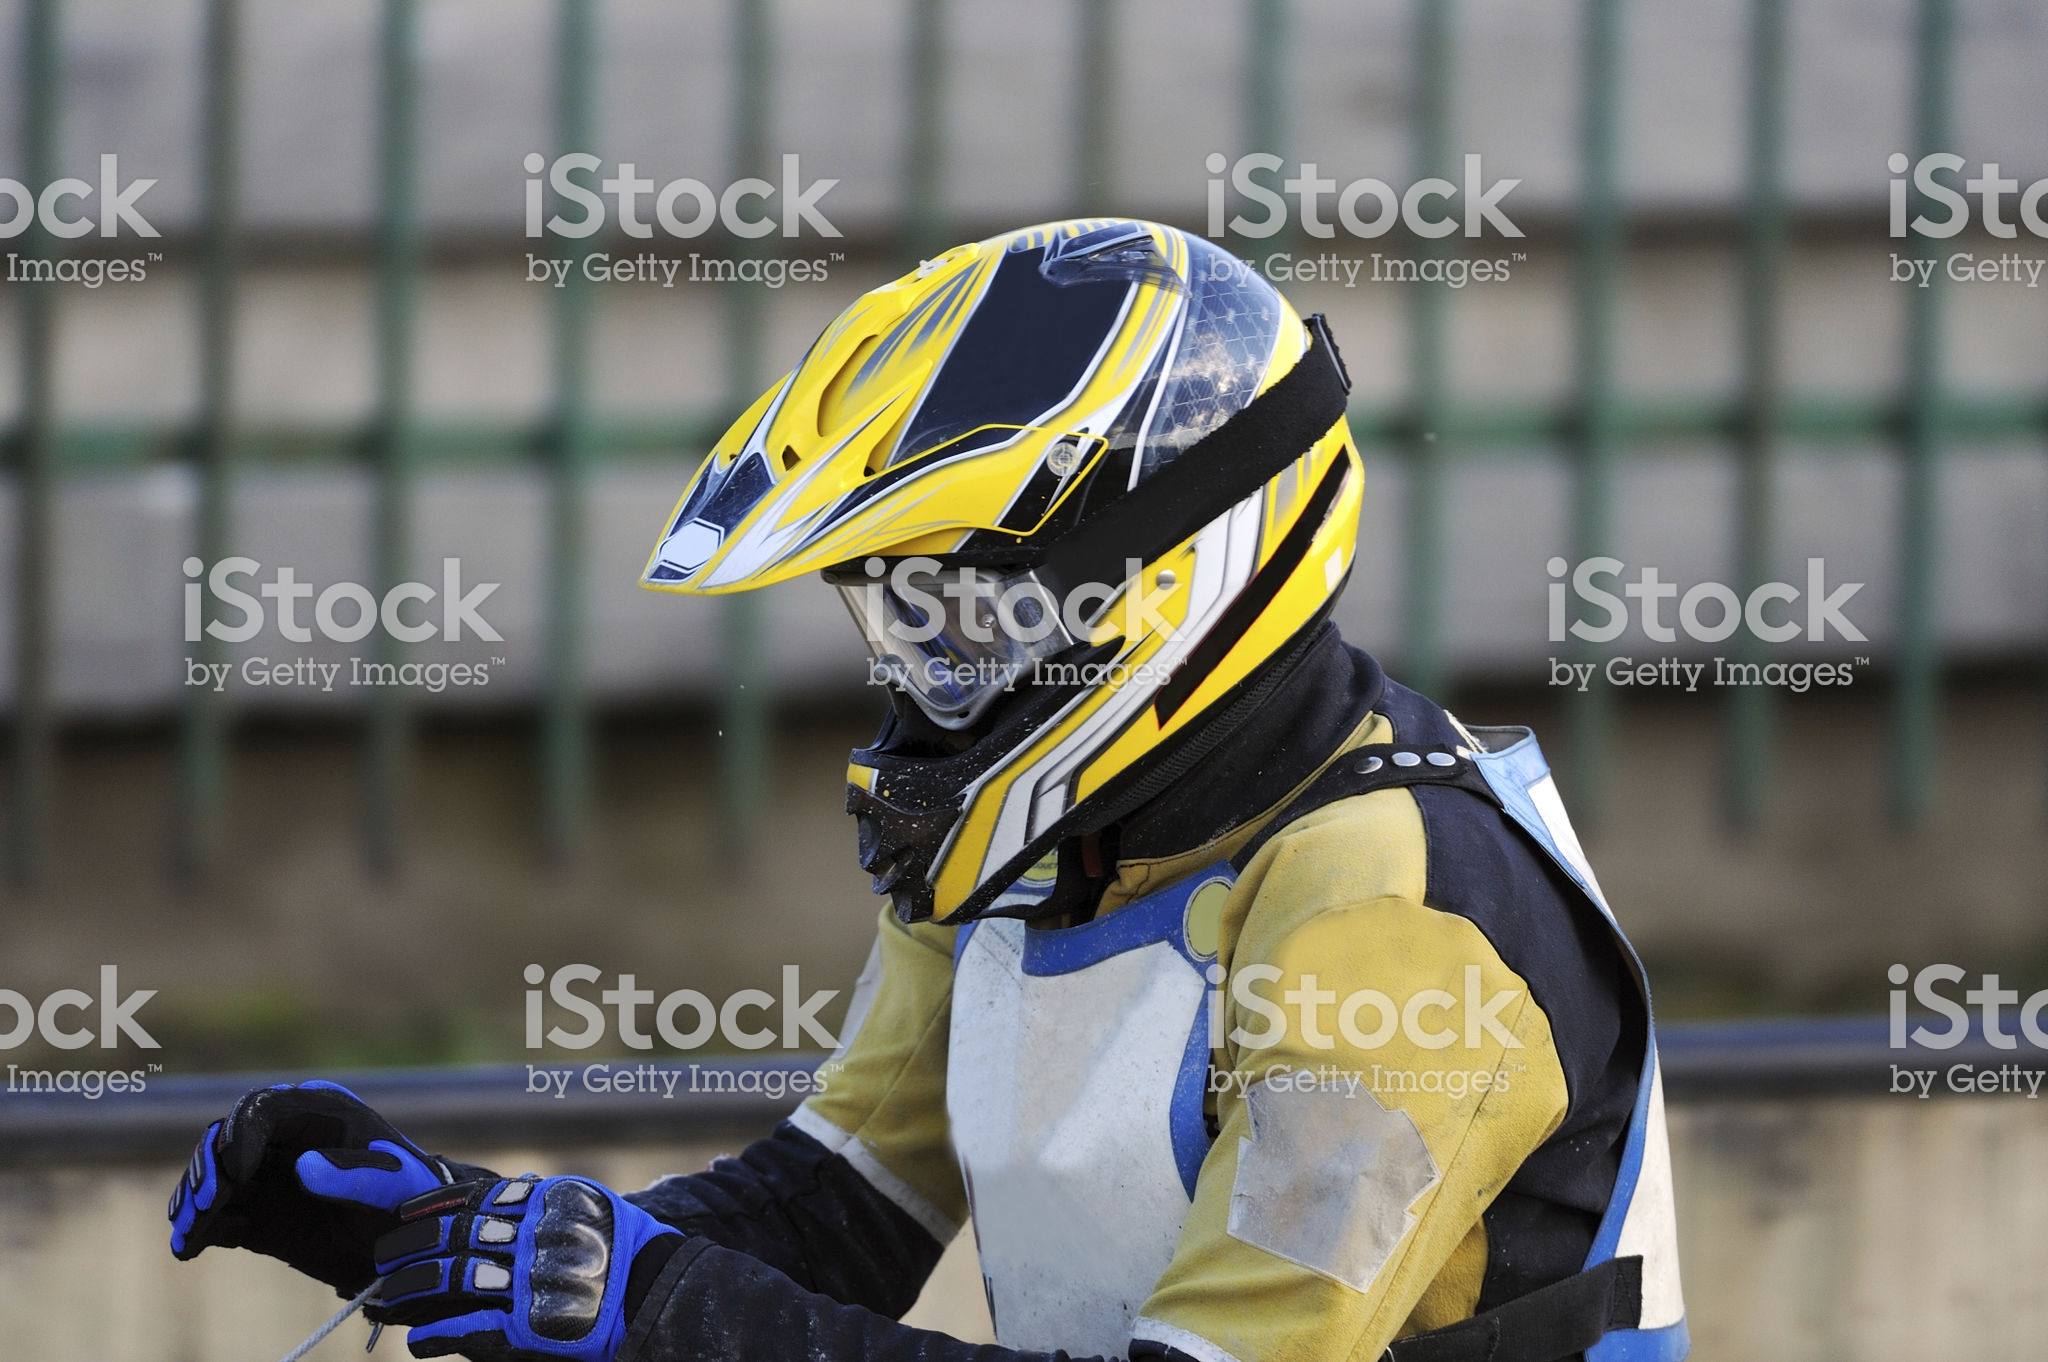helmet: (679, 239, 1443, 812)
